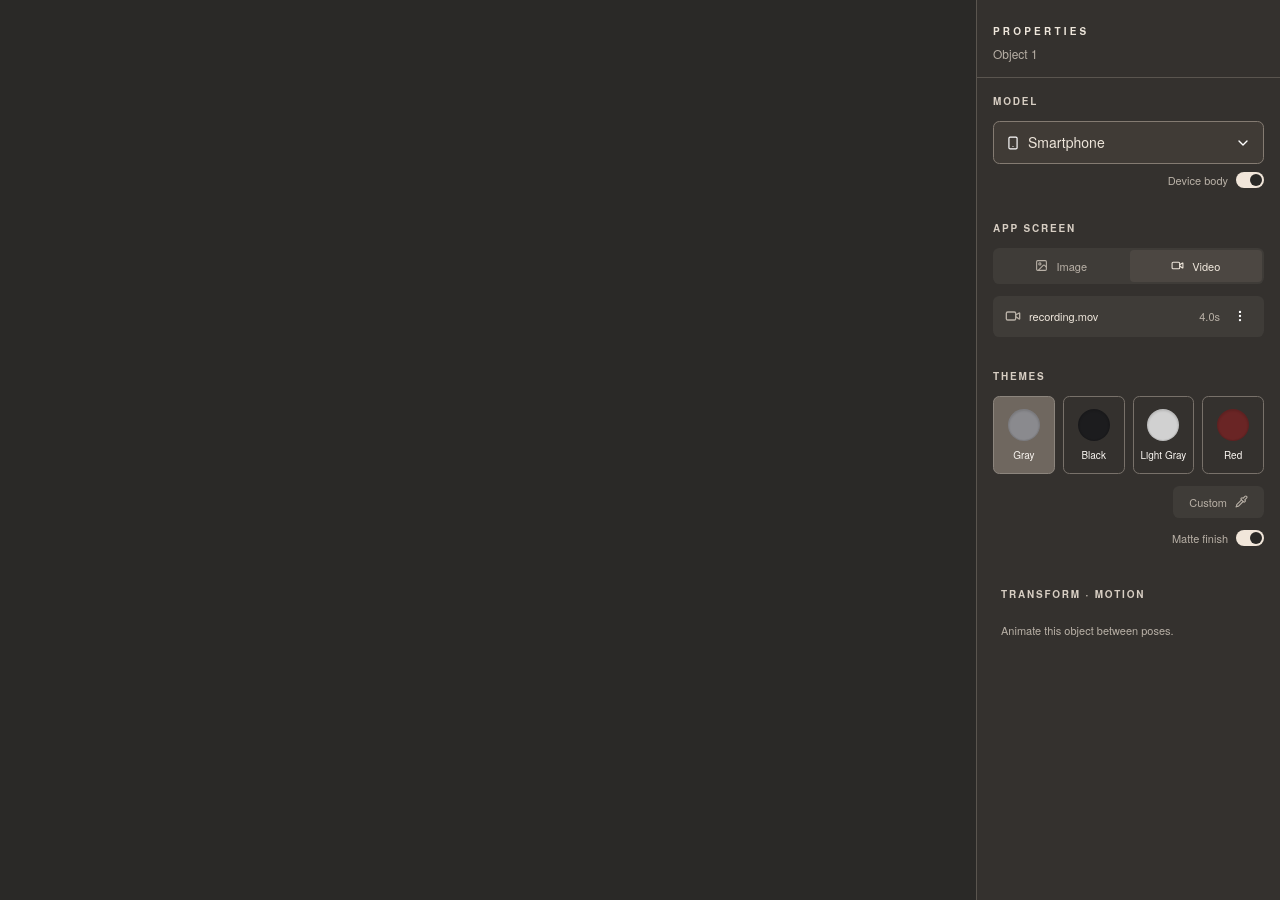
InspectorPanel › screen options panel › offers only Fit and Crop for a video, whose time is the timeline's
Click the button named "Video options" at [1240, 316], box x1=1228 y1=308 x2=1252 y2=324
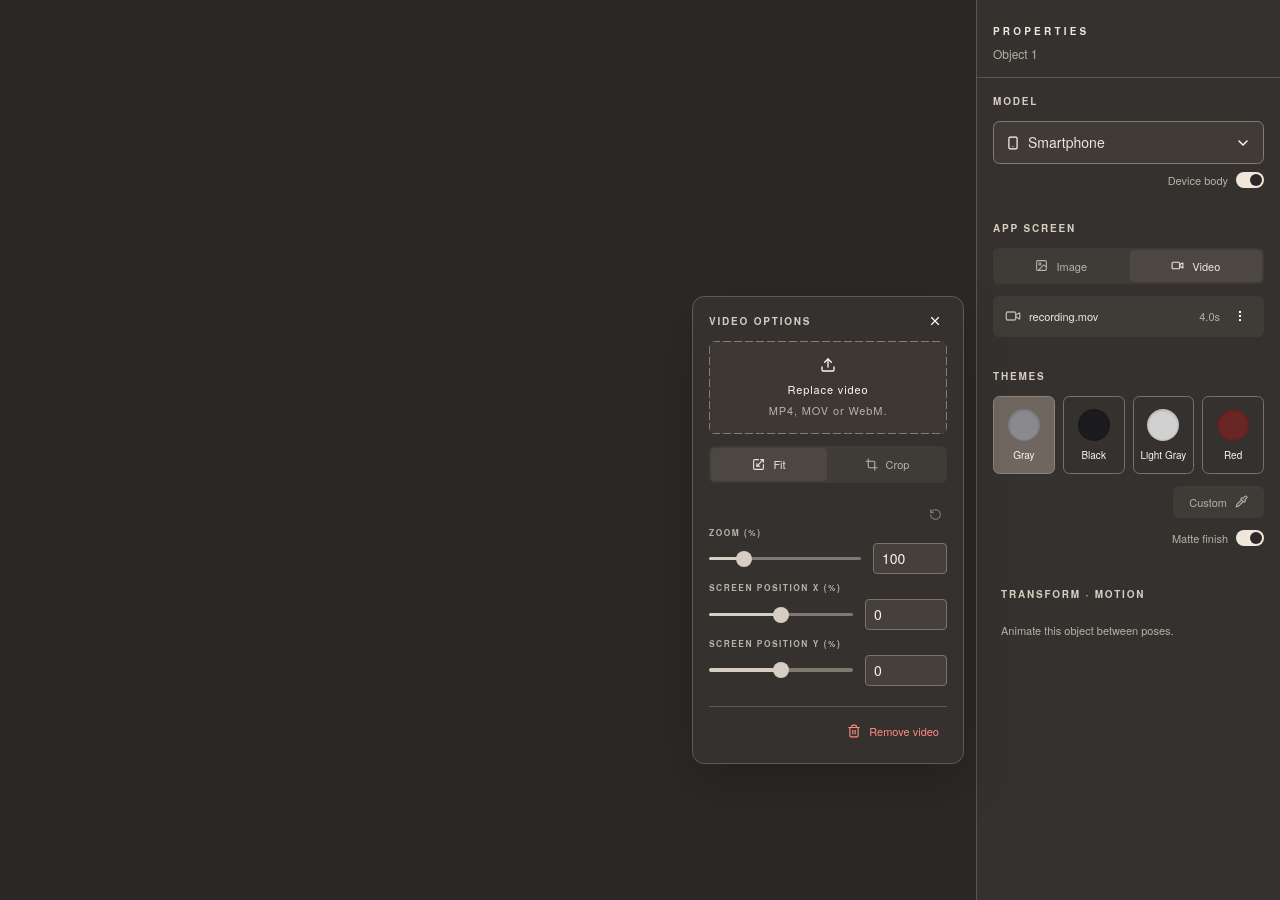
Expected: the tabs read "Fit", "Crop", in this order, x1=711 y1=448 x2=827 y2=481; x1=829 y1=448 x2=945 y2=481
